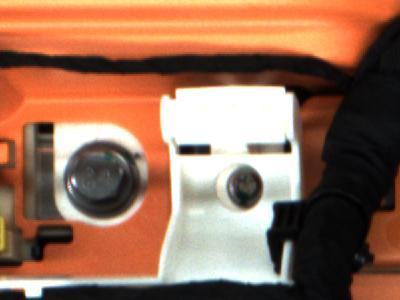nut_b: (63, 140, 140, 221)
